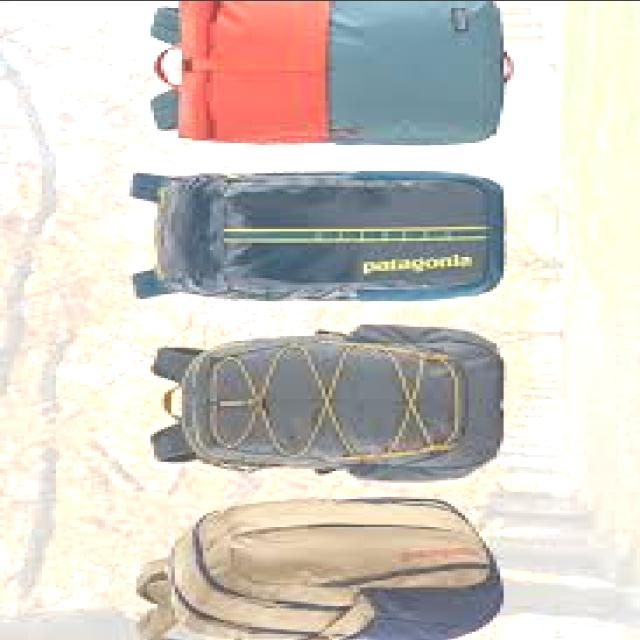backpack: (148, 325, 504, 483), (135, 499, 505, 640), (127, 171, 505, 303)
